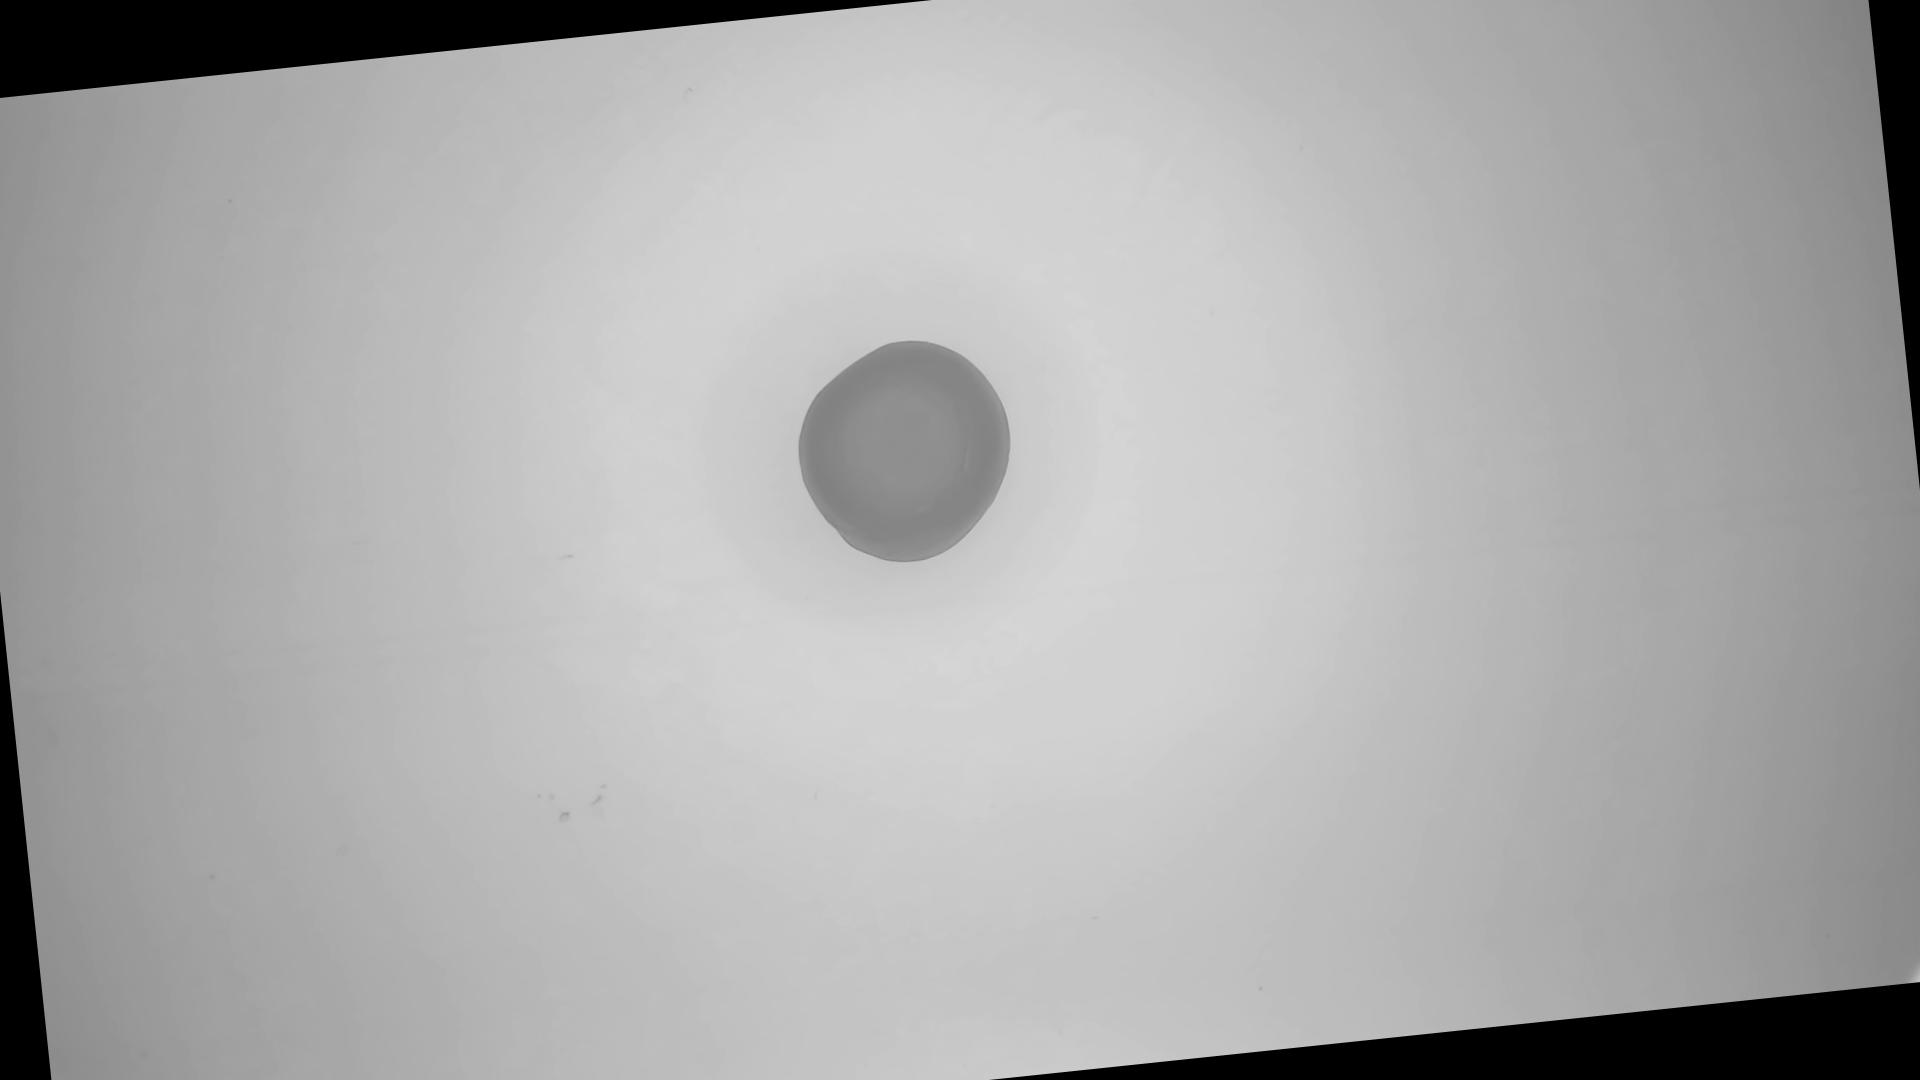normal: (785, 327, 1030, 579)
